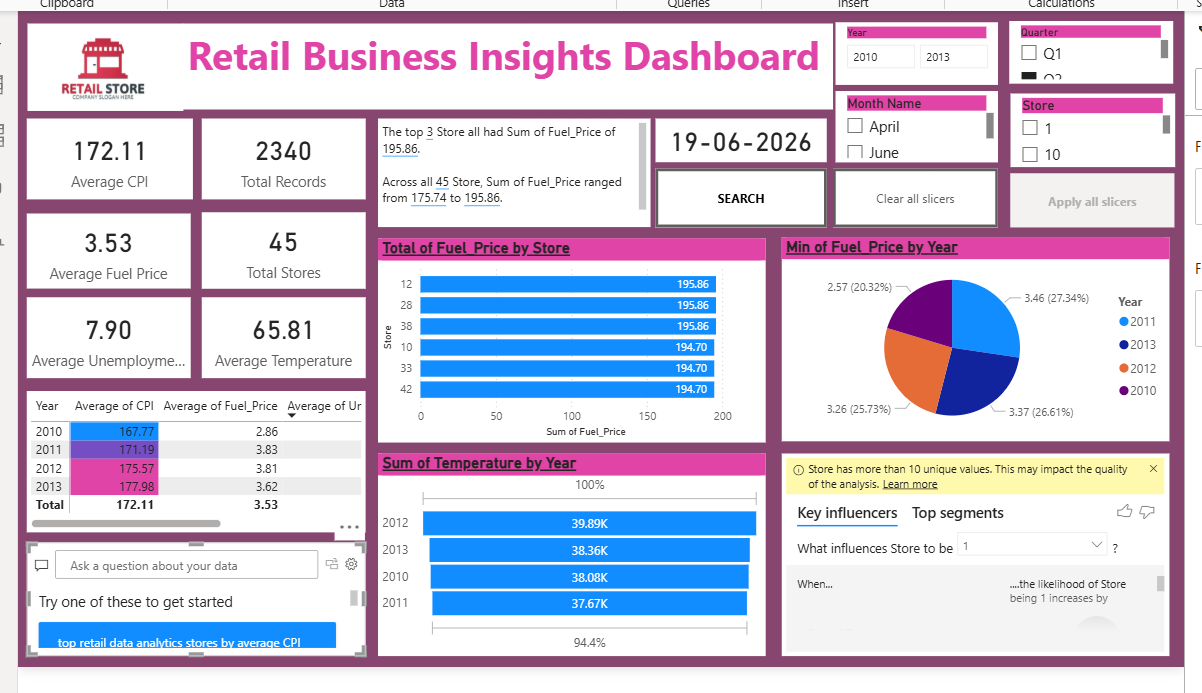

Layout of this report page (visuals, bound fields, positions):
{"tool":"powerbi","page":{"name":"Page 1","canvas":[1280,720],"ordinal":0},"visuals":[{"type":"card","fields":{"Values":["MyDaxFunction.Total Records"]},"box":[201.7,118,179.8,89.2],"z":0},{"type":"textbox","box":[181.1,13.7,713.6,94.7],"z":1000},{"type":"image","box":[0,13.7,192.1,96.1],"z":2000},{"type":"card","fields":{"Values":["MyDaxFunction.Average CPI"]},"box":[9.6,118,182.5,89.2],"z":3000},{"type":"card","fields":{"Values":["MyDaxFunction.Average Fuel Price"]},"box":[9.6,222.3,179.8,82.3],"z":4000},{"type":"card","fields":{"Values":["MyDaxFunction.Total Stores"]},"box":[201.7,220.9,179.8,83.7],"z":5000},{"type":"card","fields":{"Values":["MyDaxFunction.Average Temperature"]},"box":[201.7,314.2,179.8,89.2],"z":6000},{"type":"card","fields":{"Values":["MyDaxFunction.Average Unemployment"]},"box":[9.6,314.2,179.8,89.2],"z":7000},{"type":"slicer","fields":{"Values":["Calendar.Year"]},"box":[897,11.8,178.7,69.1],"z":8000},{"type":"slicer","fields":{"Values":["Calendar.Quarter"]},"box":[1088.2,11,179.8,68.6],"z":9000},{"type":"slicer","fields":{"Values":["Calendar.Month Name"]},"box":[897.4,87.8,178.4,78.2],"z":10000},{"type":"slicer","fields":{"Values":["RetailDataAnalytics.Store"]},"box":[1089.2,91,180.4,80.9],"z":11000},{"type":"clusteredBarChart","title":"Total of Fuel_Price by Store","fields":{"Category":["RetailDataAnalytics.Store"],"Y":["Sum(RetailDataAnalytics.Fuel_Price)"]},"box":[395.2,249.7,425.4,223.7],"z":12000},{"type":"funnel","fields":{"Category":["RetailDataAnalytics.Year","RetailDataAnalytics.Store"],"Y":["Sum(RetailDataAnalytics.Temperature)"]},"box":[395.2,485.8,425.4,222.3],"z":13000},{"type":"pieChart","fields":{"Category":["RetailDataAnalytics.Year"],"Y":["Min(RetailDataAnalytics.Fuel_Price)"]},"box":[838.4,248.4,425.4,223.7],"z":14000},{"type":"pivotTable","fields":{"Rows":["RetailDataAnalytics.Year"],"Values":["Avg(RetailDataAnalytics.CPI)","Avg(RetailDataAnalytics.Fuel_Price)","Avg(RetailDataAnalytics.Unemployment)","Avg(RetailDataAnalytics.Temperature)"]},"box":[9.6,417.2,371.9,155.1],"z":15000},{"type":"qnaVisual","box":[9.6,583.2,371.9,124.9],"z":16000},{"type":"textbox","box":[395.2,118,299.1,119.4],"z":17000},{"type":"keyDriversVisual","fields":{"Target":["RetailDataAnalytics.Store"],"ExplainBy":["Sum(RetailDataAnalytics.Fuel_Price)","RetailDataAnalytics.IsHoliday","Sum(RetailDataAnalytics.Temperature)","Sum(RetailDataAnalytics.Unemployment)"]},"box":[838.4,485.8,425.4,222.3],"z":18000},{"type":"actionButton","box":[699.8,172.9,188,64.5],"z":19000},{"type":"card","fields":{"Values":["MyDaxFunction.today"]},"box":[699.8,118,188,48],"z":20000},{"type":"actionButton","box":[894.7,172.9,181.1,64.5],"z":21000},{"type":"actionButton","box":[1089.5,178.4,179.8,59],"z":22000}]}

Visuals, with their boxes in screenshot pixels (x1, y1, x2, y2):
card - MyDaxFunction.Total Records: box=[193, 112, 360, 195]
textbox: box=[174, 16, 835, 104]
image: box=[6, 16, 184, 105]
card - MyDaxFunction.Average CPI: box=[15, 112, 184, 195]
card - MyDaxFunction.Average Fuel Price: box=[15, 209, 182, 285]
card - MyDaxFunction.Total Stores: box=[193, 208, 360, 285]
card - MyDaxFunction.Average Temperature: box=[193, 294, 360, 377]
card - MyDaxFunction.Average Unemployment: box=[15, 294, 182, 377]
slicer - Calendar.Year: box=[837, 14, 1002, 78]
slicer - Calendar.Quarter: box=[1014, 13, 1181, 77]
slicer - Calendar.Month Name: box=[837, 84, 1003, 157]
slicer - RetailDataAnalytics.Store: box=[1015, 87, 1182, 162]
"Total of Fuel_Price by Store" clusteredBarChart: box=[372, 234, 766, 442]
funnel - RetailDataAnalytics.Year x RetailDataAnalytics.Store: box=[372, 453, 766, 659]
pieChart - RetailDataAnalytics.Year x Min(RetailDataAnalytics.Fuel_Price): box=[783, 233, 1177, 440]
pivotTable - RetailDataAnalytics.Year x Avg(RetailDataAnalytics.CPI): box=[15, 389, 360, 533]
qnaVisual: box=[15, 543, 360, 659]
textbox: box=[372, 112, 649, 223]
keyDriversVisual - RetailDataAnalytics.Store x Sum(RetailDataAnalytics.Fuel_Price): box=[783, 453, 1177, 659]
actionButton: box=[654, 163, 828, 223]
card - MyDaxFunction.today: box=[654, 112, 828, 157]
actionButton: box=[835, 163, 1003, 223]
actionButton: box=[1015, 168, 1182, 223]
